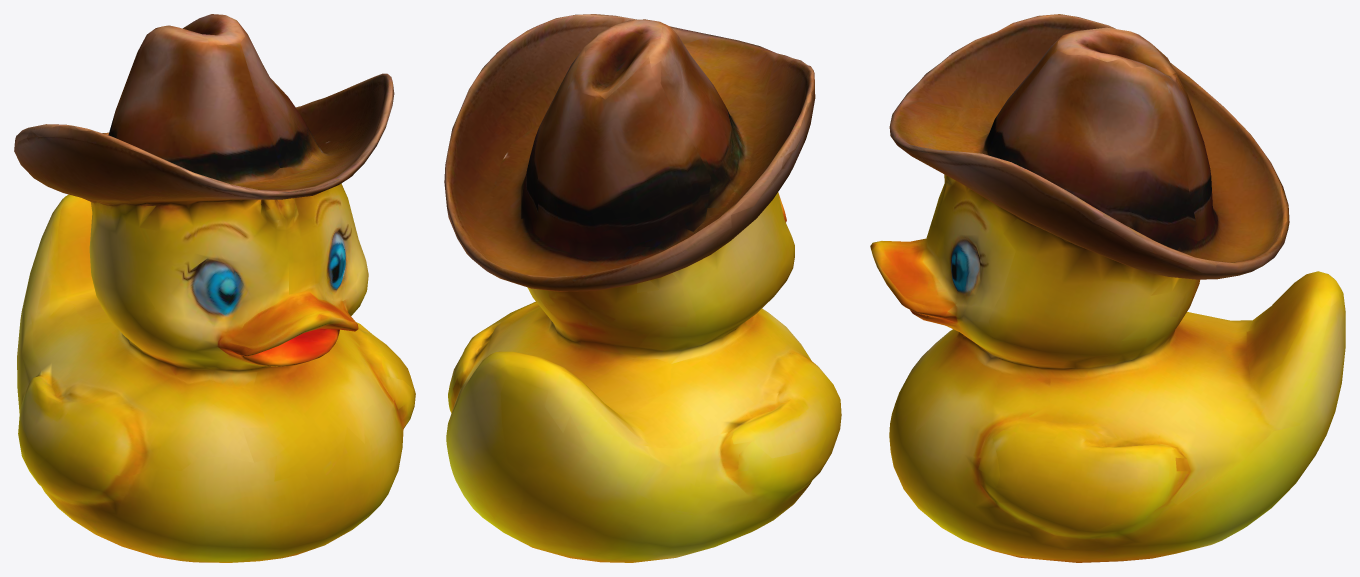
Rendered from 0697014b-e3c9-7e87-8000-5f14eac0a1ba-model.glb.
The picture shows the model from 3 angles, left to right: view 1: azimuth 30°, elevation 25°; view 2: azimuth 150°, elevation 25°; view 3: azimuth 270°, elevation 25°; orthographic projection.
Visible parts, largest first — view 1: model; view 2: model; view 3: model.
Part boxes in pixels (x1=…): model: x1=14, y1=14, x2=415, y2=562; model: x1=444, y1=14, x2=841, y2=562; model: x1=870, y1=14, x2=1345, y2=562.
Bounding box in the file's own units: 0.7174 × 0.9218 × 0.8454.
Materials: 1 (1 with a texture image).
